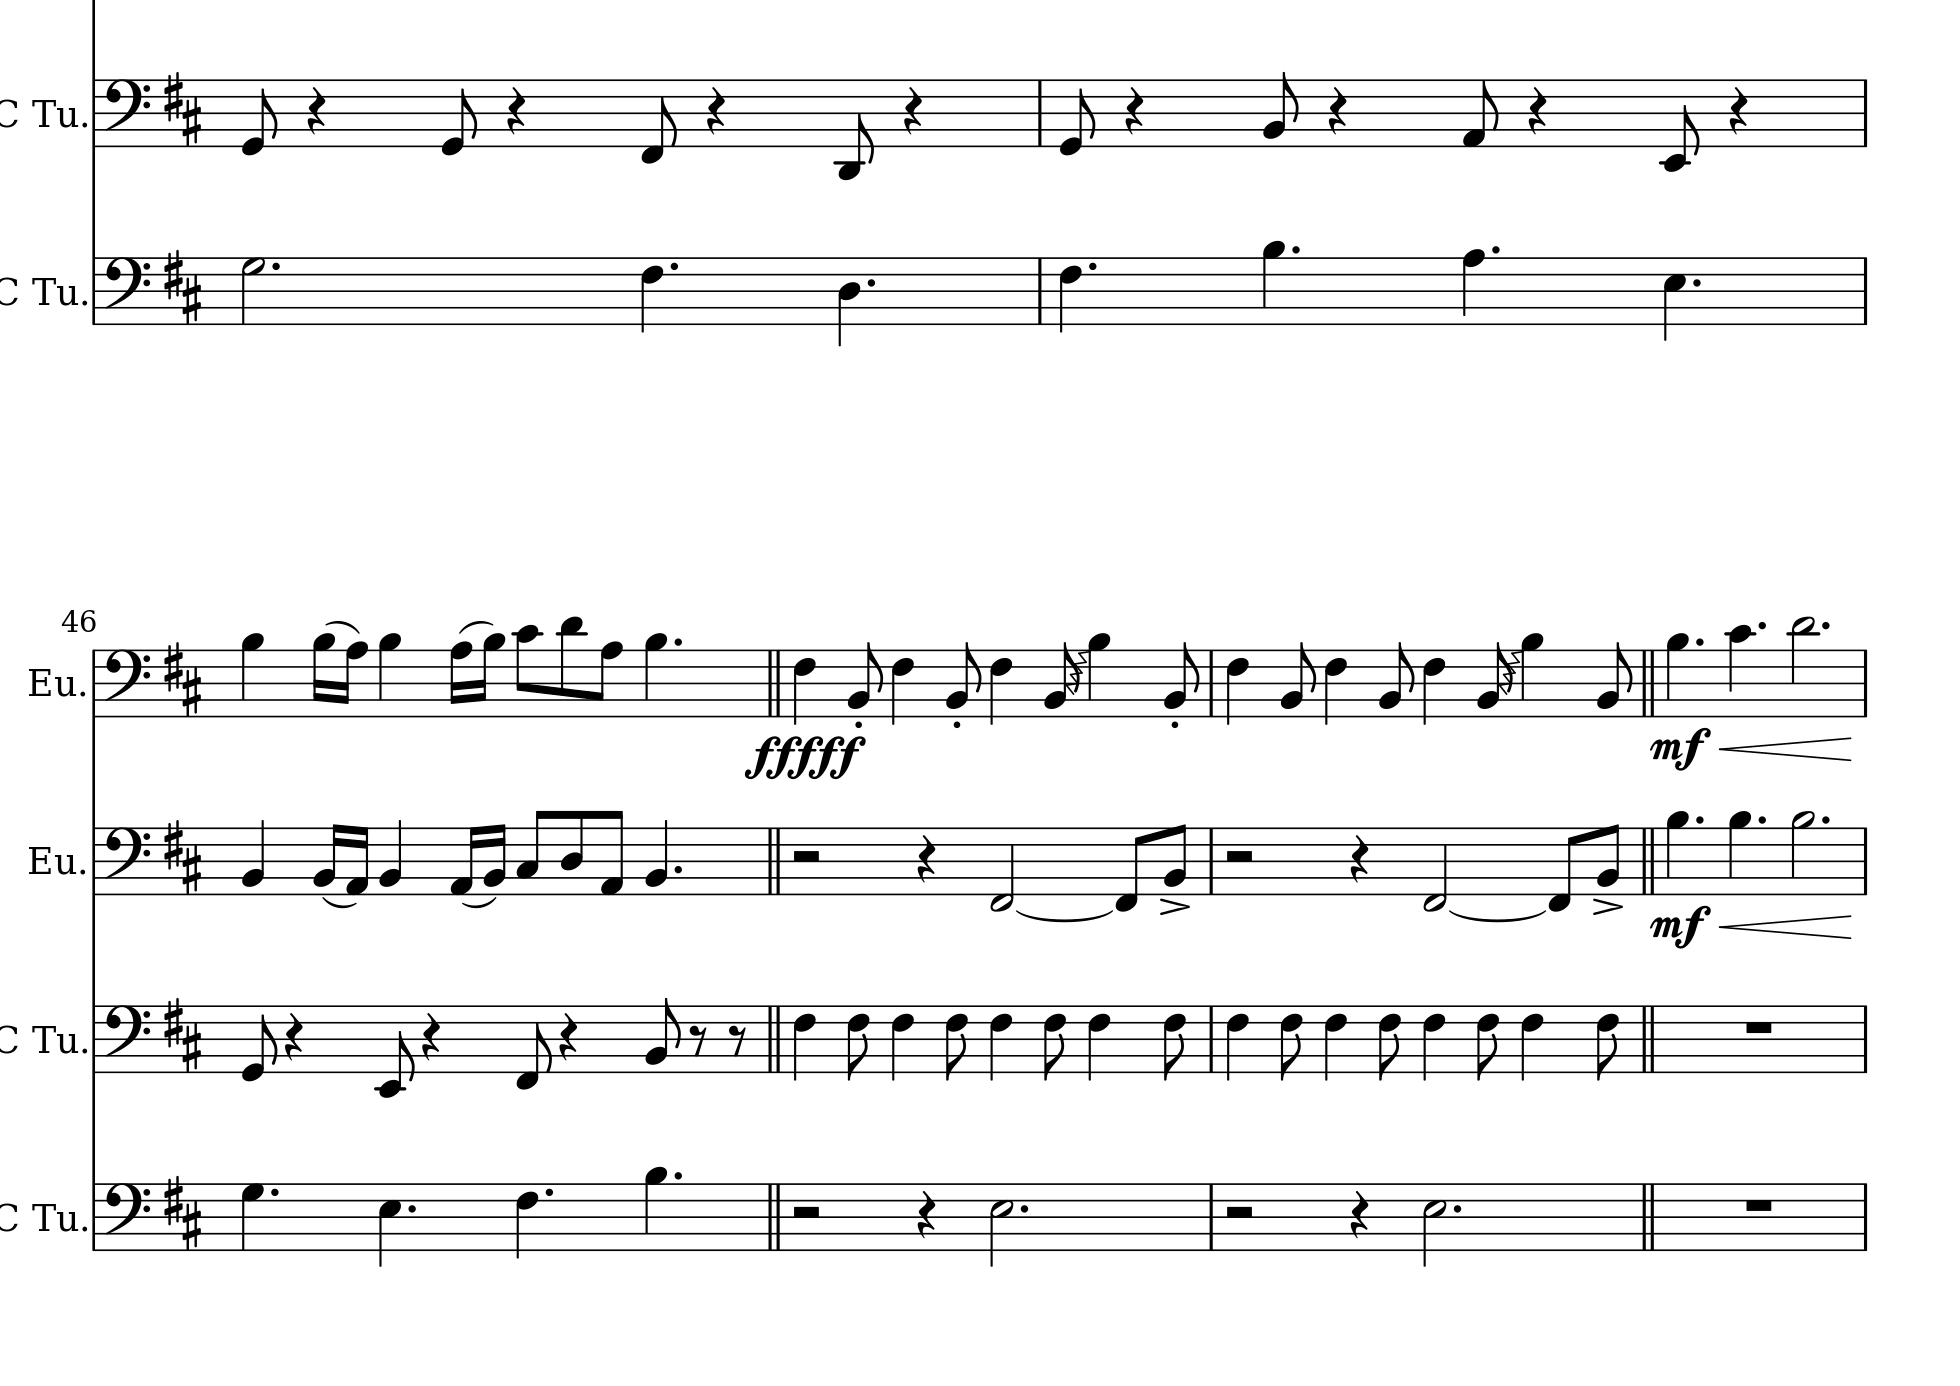16_1: (448, 823, 481, 897), (343, 823, 369, 898)
16_2: (310, 820, 343, 895), (483, 822, 507, 895)
16_8: (337, 640, 367, 718), (447, 640, 472, 718)
16_9: (475, 631, 505, 718), (310, 631, 334, 718)
2_-1: (1422, 823, 1450, 913), (990, 825, 1017, 913)
2_11: (1788, 615, 1818, 718)
2_5: (1422, 1180, 1449, 1267), (988, 1182, 1015, 1267)
2_7: (238, 255, 265, 325)
2_9: (1789, 808, 1818, 897)
4: (60, 607, 78, 633)
4_10: (1725, 622, 1758, 718)
4_2: (240, 817, 267, 897), (643, 817, 670, 897), (378, 817, 403, 895)
4_4: (835, 255, 862, 346)
4_5: (1662, 255, 1687, 343), (376, 1180, 402, 1267)
4_6: (790, 646, 817, 726), (889, 646, 916, 726), (790, 1003, 817, 1081), (1086, 1003, 1113, 1081), (988, 646, 1014, 726), (1224, 646, 1249, 726), (1323, 646, 1348, 724), (889, 1003, 915, 1081), (988, 1003, 1014, 1081), (1323, 1003, 1348, 1081), (1519, 1003, 1545, 1081), (1059, 253, 1083, 334), (640, 253, 664, 333), (514, 1180, 538, 1260), (1422, 646, 1446, 724), (1225, 1003, 1249, 1081), (1422, 1003, 1446, 1081)
4_7: (238, 1180, 265, 1251)
4_8: (1461, 247, 1486, 327)
4_9: (1260, 238, 1287, 327), (238, 630, 265, 718), (1728, 808, 1755, 897), (1665, 631, 1692, 718), (1665, 808, 1692, 895), (1086, 628, 1111, 717), (642, 1164, 667, 1252), (376, 631, 402, 718), (643, 631, 669, 718), (1519, 630, 1545, 717)
6: (79, 607, 97, 631)
8_-1: (513, 1003, 553, 1092), (640, 76, 678, 163), (1546, 823, 1581, 913), (1113, 825, 1147, 913)
8_-2: (1659, 76, 1701, 172), (373, 1005, 415, 1099)
8_-3: (835, 76, 874, 180)
8_0: (441, 76, 478, 157), (240, 1003, 277, 1083), (241, 78, 279, 156), (1060, 78, 1096, 157)
8_1: (1461, 78, 1501, 148), (598, 808, 625, 897)
8_10: (513, 622, 541, 718)
8_11: (556, 613, 585, 718)
8_2: (1476, 639, 1515, 717), (846, 639, 883, 718), (1596, 639, 1633, 718), (1263, 70, 1300, 148), (1162, 639, 1200, 717), (643, 996, 681, 1074), (945, 639, 981, 717), (1044, 639, 1080, 715), (1281, 640, 1317, 717), (1378, 640, 1414, 717), (1596, 820, 1621, 895), (1164, 820, 1188, 895)
8_3: (514, 808, 547, 897)
8_4: (559, 808, 585, 895)
8_6: (1375, 1003, 1404, 1081), (1473, 1003, 1501, 1081), (844, 1003, 871, 1081), (943, 1003, 970, 1081), (1041, 1003, 1068, 1081), (1161, 1003, 1188, 1081), (1278, 1003, 1305, 1081), (1596, 1003, 1623, 1081)
8_8: (592, 639, 622, 718)
Accent_above: (1158, 895, 1191, 915), (1591, 897, 1624, 916)
Crescendo_hairpin: (1722, 736, 1851, 760), (1720, 915, 1851, 937)
D_S: (163, 247, 202, 324), (163, 70, 202, 145), (163, 640, 202, 715), (163, 817, 202, 892), (163, 996, 202, 1071), (163, 1174, 202, 1249)
Double_barline: (1636, 1182, 1662, 1249), (763, 826, 787, 894), (763, 1003, 786, 1072), (1638, 648, 1660, 715), (1638, 826, 1660, 894), (763, 649, 786, 715), (763, 1183, 786, 1249), (1638, 1005, 1659, 1072)
Fclef: (102, 253, 151, 325), (102, 646, 151, 718), (102, 823, 151, 895), (103, 1002, 151, 1074), (102, 1180, 150, 1251), (103, 76, 150, 148)
Rests1: (1741, 1195, 1777, 1215), (1743, 1017, 1776, 1036)
Rests2: (787, 846, 826, 868), (787, 1201, 825, 1222), (1222, 1201, 1258, 1222), (1222, 847, 1257, 865)
Rests4: (504, 85, 528, 138), (1326, 84, 1350, 136), (913, 832, 937, 885), (304, 85, 328, 136), (703, 85, 727, 136), (1122, 85, 1146, 136), (282, 1009, 304, 1063), (1348, 832, 1371, 885), (420, 1011, 442, 1063), (901, 85, 924, 136), (1527, 85, 1549, 136), (556, 1011, 579, 1062), (915, 1189, 937, 1240), (1348, 1189, 1371, 1240), (1728, 85, 1749, 136)
Rests8: (688, 1023, 708, 1057), (727, 1023, 747, 1056)
Single_barline: (1857, 79, 1875, 147), (1203, 826, 1221, 894), (1032, 79, 1050, 145), (1203, 649, 1221, 715), (1203, 1005, 1221, 1071), (1203, 1183, 1221, 1249), (1857, 826, 1873, 895), (1857, 256, 1873, 324), (1857, 1005, 1873, 1072), (1857, 1182, 1873, 1249), (1032, 258, 1048, 324), (1857, 649, 1873, 715), (87, 826, 102, 895), (88, 1003, 102, 1074), (88, 79, 102, 148), (88, 649, 102, 717), (88, 256, 100, 324), (88, 1182, 100, 1249)
Slur: (1015, 907, 1116, 921), (1449, 907, 1548, 921), (457, 619, 493, 634), (325, 619, 361, 633), (321, 895, 357, 907), (462, 895, 496, 907)
dot: (862, 274, 877, 289), (1689, 274, 1704, 289), (541, 1183, 556, 1198), (1488, 241, 1503, 255), (666, 258, 681, 271), (1819, 618, 1833, 633), (267, 1183, 280, 1198), (403, 1201, 418, 1215), (1450, 1201, 1464, 1216), (1017, 1201, 1032, 1215), (1086, 258, 1099, 271), (1755, 618, 1768, 631), (1692, 634, 1705, 648), (1692, 813, 1705, 826), (670, 1168, 684, 1182), (1290, 241, 1302, 255), (268, 259, 282, 271), (670, 636, 684, 648), (1755, 813, 1767, 826), (1819, 813, 1831, 826), (672, 862, 682, 874)
fffff: (744, 729, 867, 784)
mf: (1651, 726, 1713, 772), (1650, 904, 1711, 949)
